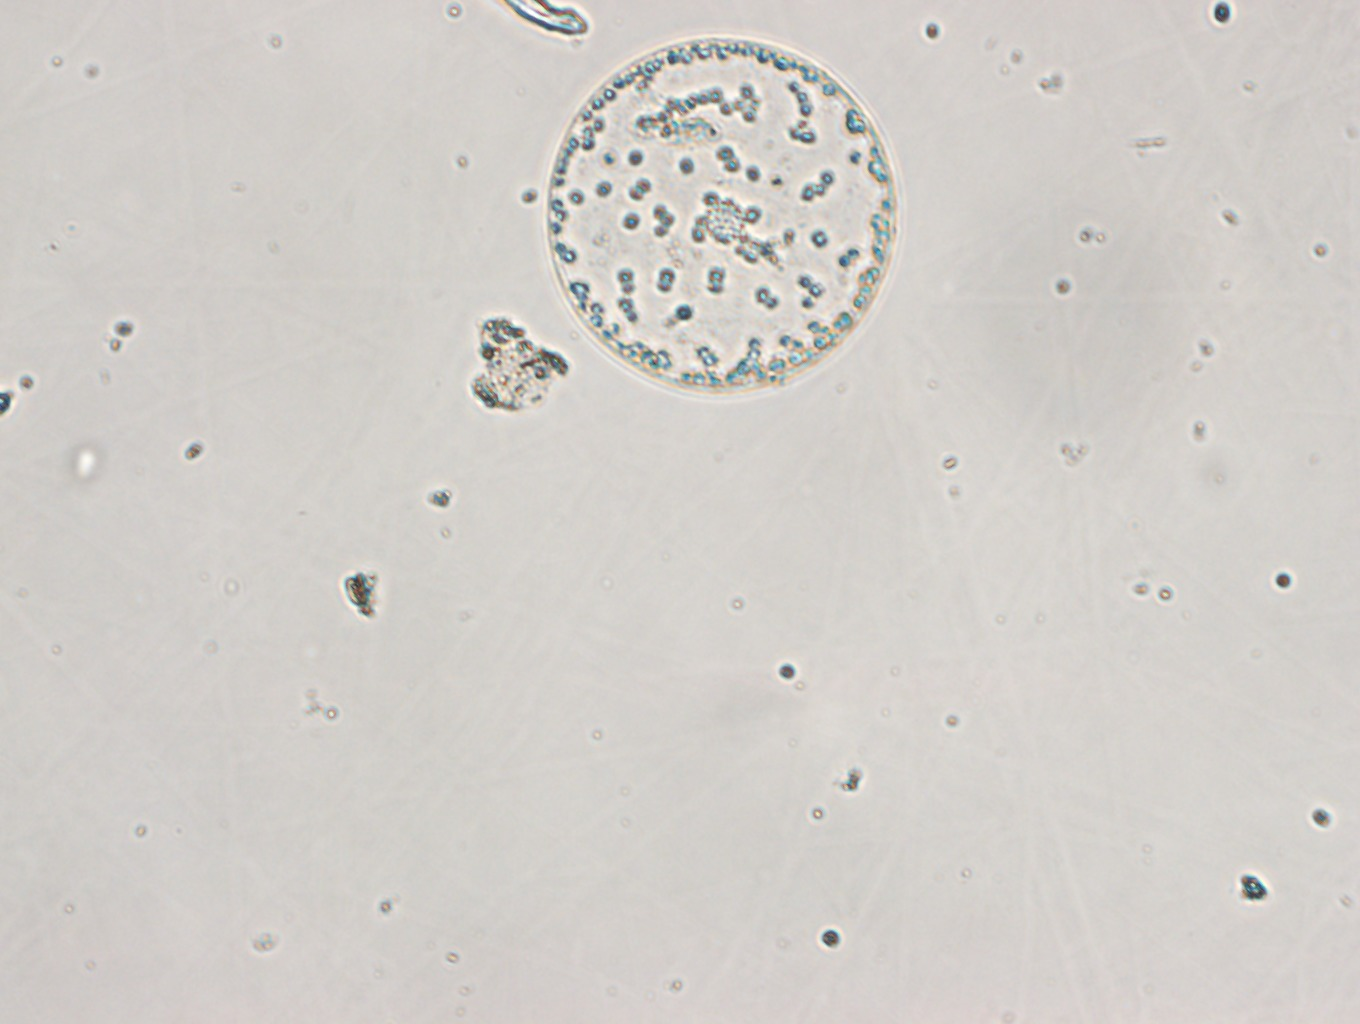coscinodiscus: (547, 40, 898, 396)
